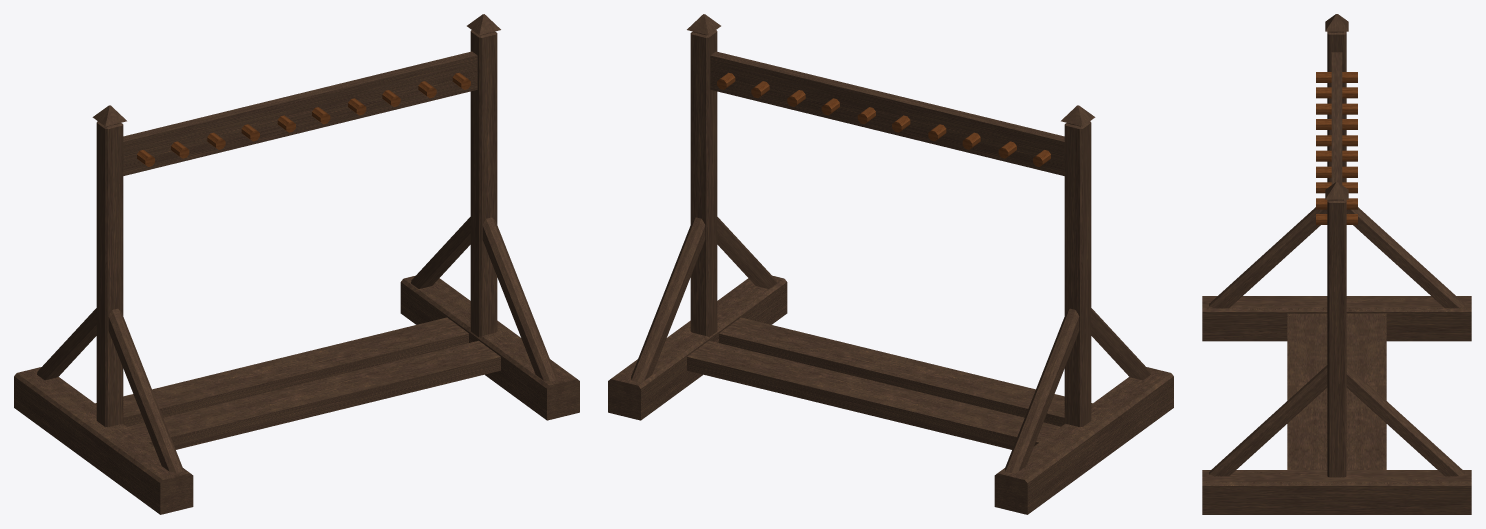
The model's file is weapon_rack.glb.
3 views of the same model, side by side, from view 1: azimuth 30°, elevation 25°; view 2: azimuth 150°, elevation 25°; view 3: azimuth 270°, elevation 25° (orthographic). The views are drawn at different scales.
Visible parts, largest first — view 1: Weapon rack_Wood076_0, Weapon rack_Wood26_0; view 2: Weapon rack_Wood076_0, Weapon rack_Wood26_0; view 3: Weapon rack_Wood076_0, Weapon rack_Wood26_0.
Boxes of the visible parts, x1=… form: Weapon rack_Wood076_0: x1=14, y1=14, x2=579, y2=514; Weapon rack_Wood26_0: x1=137, y1=72, x2=470, y2=166; Weapon rack_Wood076_0: x1=608, y1=14, x2=1173, y2=514; Weapon rack_Wood26_0: x1=717, y1=72, x2=1050, y2=166; Weapon rack_Wood076_0: x1=1202, y1=14, x2=1471, y2=514; Weapon rack_Wood26_0: x1=1316, y1=72, x2=1357, y2=224.
Size of the model in its own units: 1.55 by 1.24 by 0.9387.
Materials: 2 (2 with a texture image).
